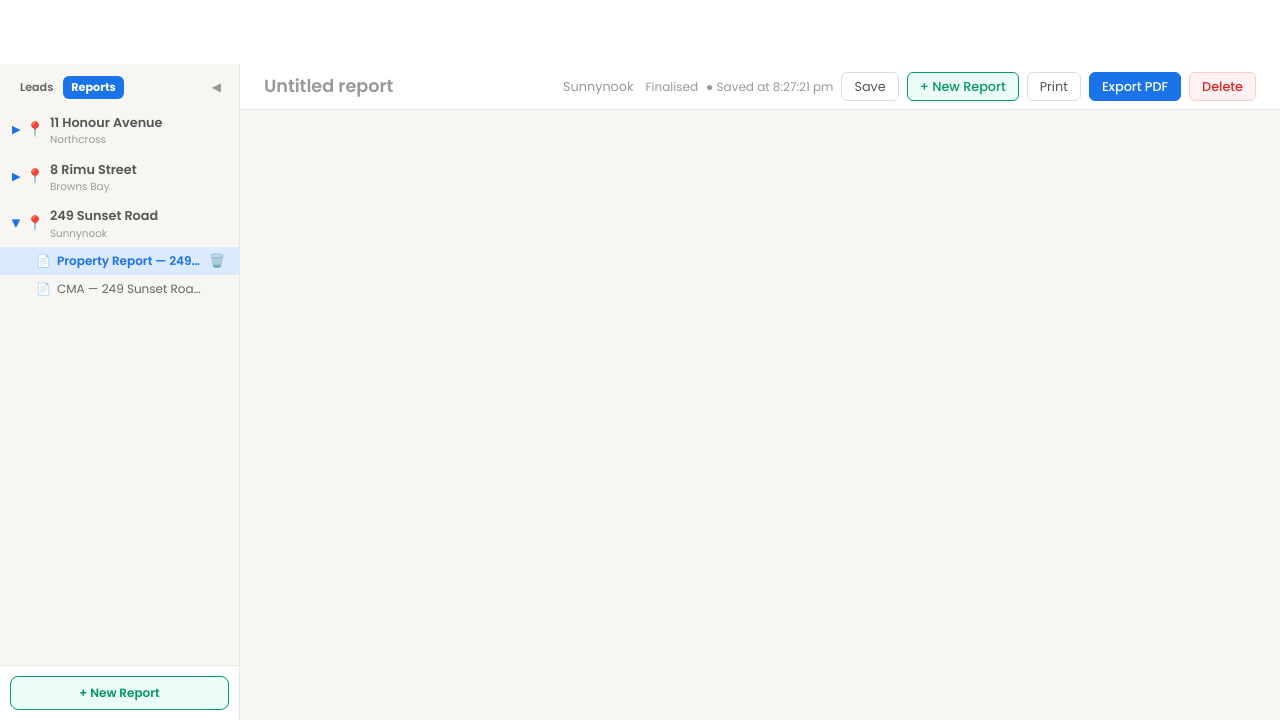
Test: LeadReportsView › collapses an expanded address to hide its child reports
This screenshot has width=1280, height=720.
Expected: the text "Property Report — 249 Sunset Road" is shown, top-left (57, 252), bottom-right (201, 270)
Click the text "249 Sunset Road" at (104, 216), box top-left (50, 207), bottom-right (158, 224)
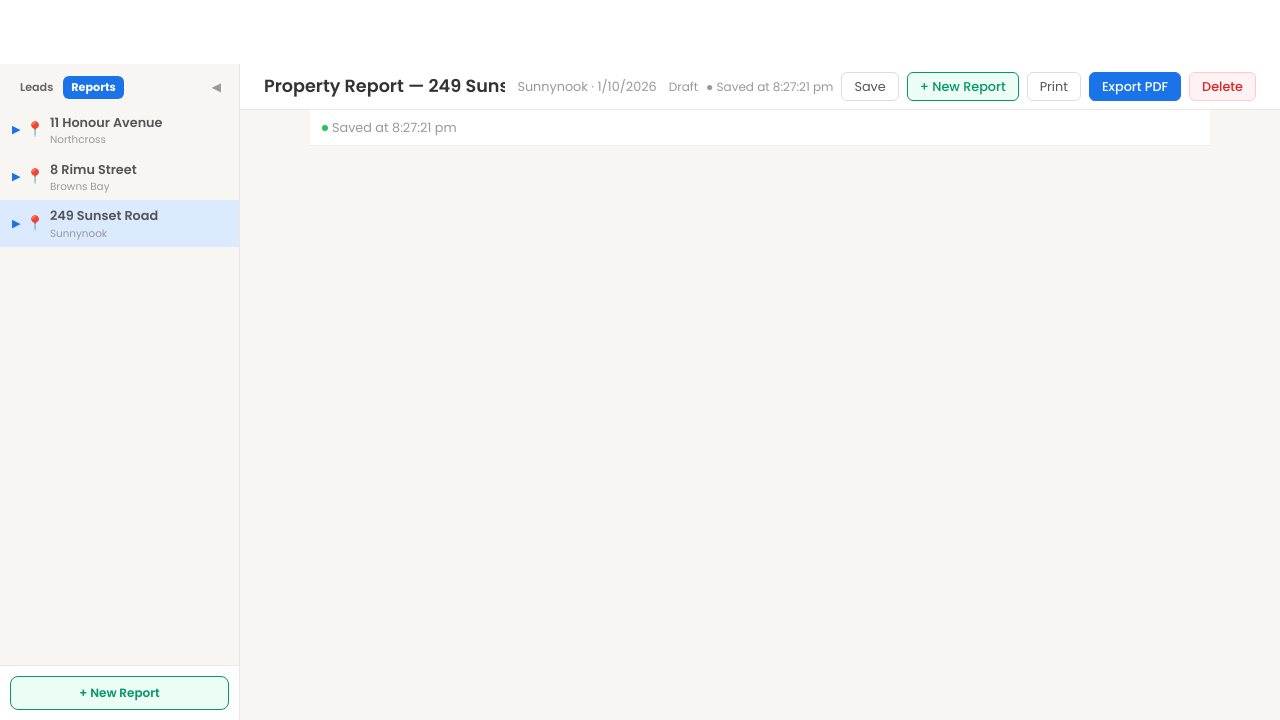
Expected: the element with test id "report-list-item" is gone
